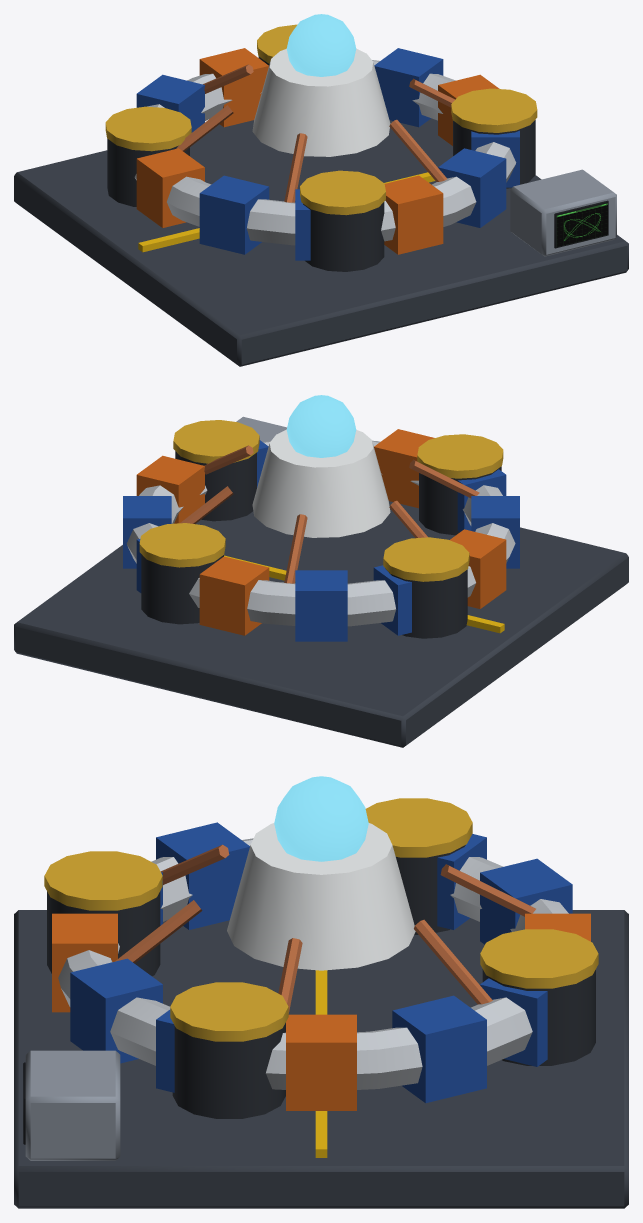
The model's file is particle_mini_collider_ring.glb.
The picture shows the model from 3 angles, top to bottom: view 1: azimuth 30°, elevation 25°; view 2: azimuth 150°, elevation 25°; view 3: azimuth 270°, elevation 25°; orthographic projection. The views are drawn at different scales.
Visible parts, largest first — view 1: particle_mini_collider_ring; view 2: particle_mini_collider_ring; view 3: particle_mini_collider_ring.
Boxes of the visible parts, box(x1,y1,x2,y2) form: particle_mini_collider_ring: box(14, 14, 628, 366); particle_mini_collider_ring: box(14, 395, 628, 747); particle_mini_collider_ring: box(14, 776, 628, 1208).
Size of the model in its own units: 2.6 by 1.4 by 2.6.
Materials: 14 (1 with a texture image).
